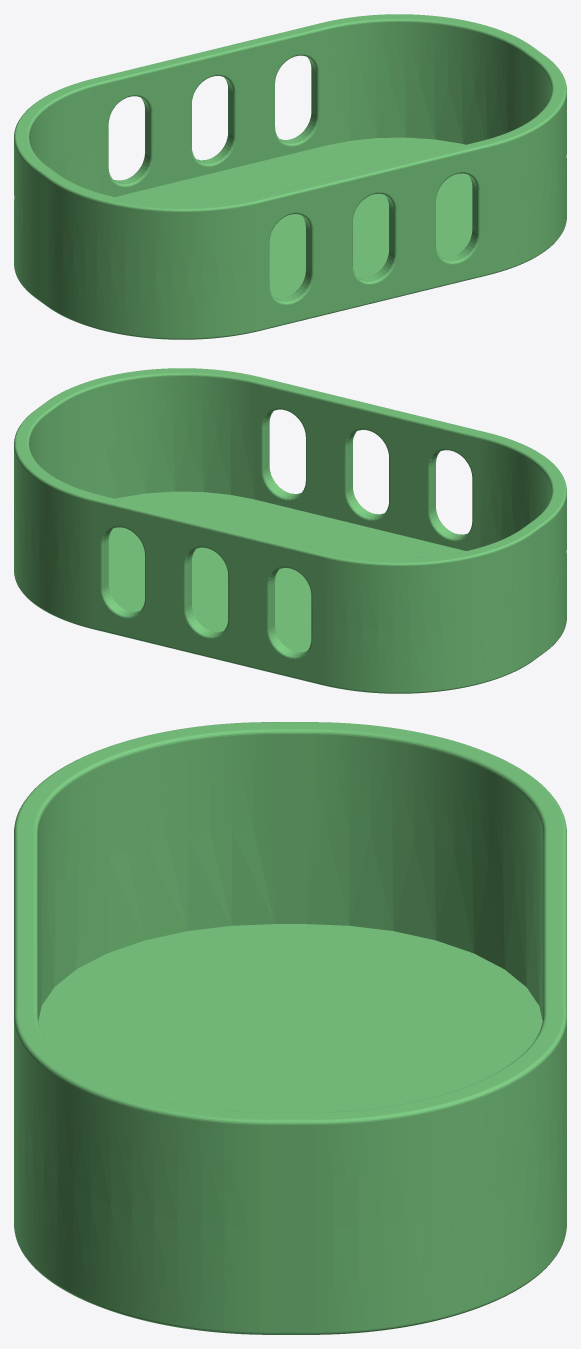
File: Organizer.fbx
The picture shows the model from 3 angles, top to bottom: view 1: azimuth 30°, elevation 25°; view 2: azimuth 150°, elevation 25°; view 3: azimuth 270°, elevation 25°; orthographic projection. The views are drawn at different scales.
Visible parts, largest first — view 1: 개체_1; view 2: 개체_1; view 3: 개체_1.
Boxes of the visible parts, bbox=[...] form: 개체_1: bbox=[14, 14, 566, 339]; 개체_1: bbox=[14, 368, 566, 693]; 개체_1: bbox=[14, 722, 566, 1334].
Size of the model in its own units: 2400 by 600 by 1400.
